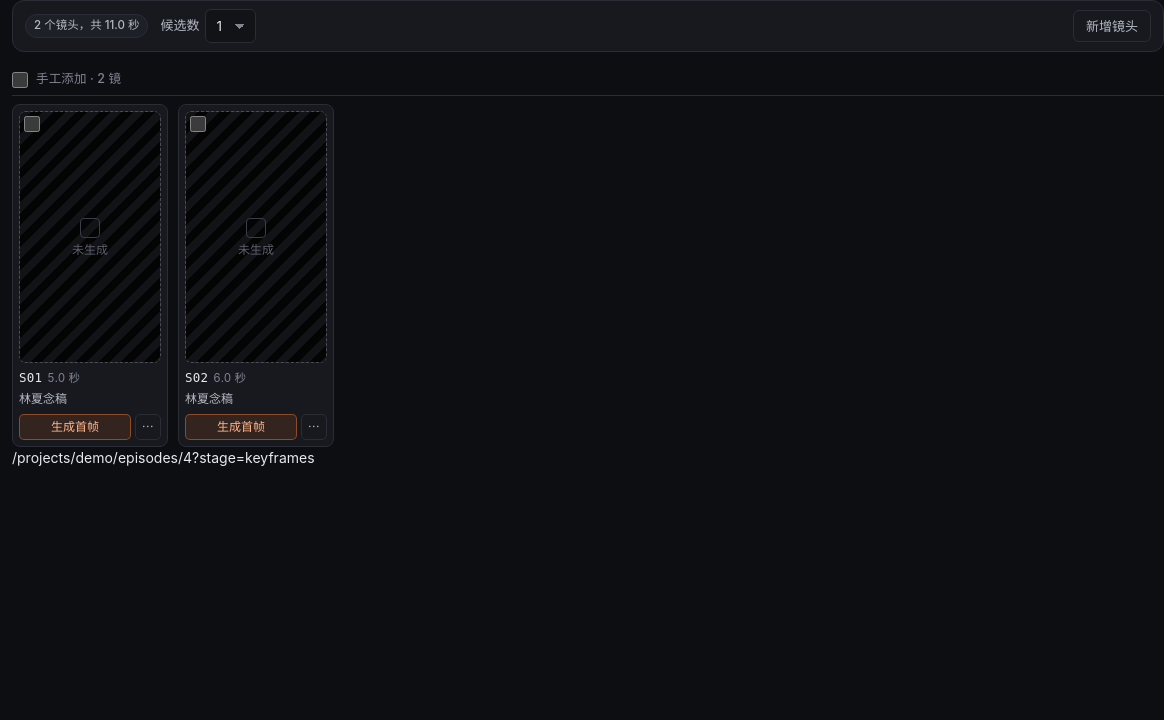
it: ShotStage › 提交后后端说接上一镜的镜头先跳过（等上一镜视频）：显示成说明，不是错误
Step 1. Click the button with aria-label "生成首帧 S01" → click(75, 427), box [19, 414, 131, 440]
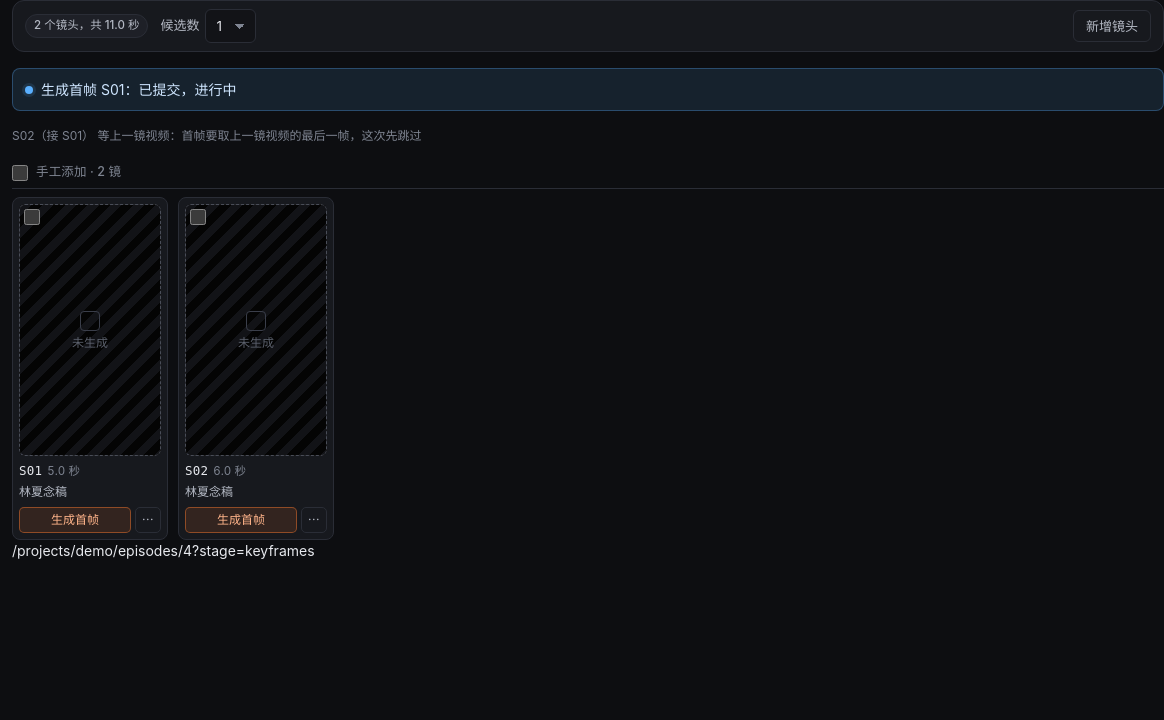
Expected: the text with test id "run-note" reads "S02（接 S01） 等上一镜视频：首帧要取上一镜视频的最后一帧，这次先跳过", [12, 128, 422, 143]
